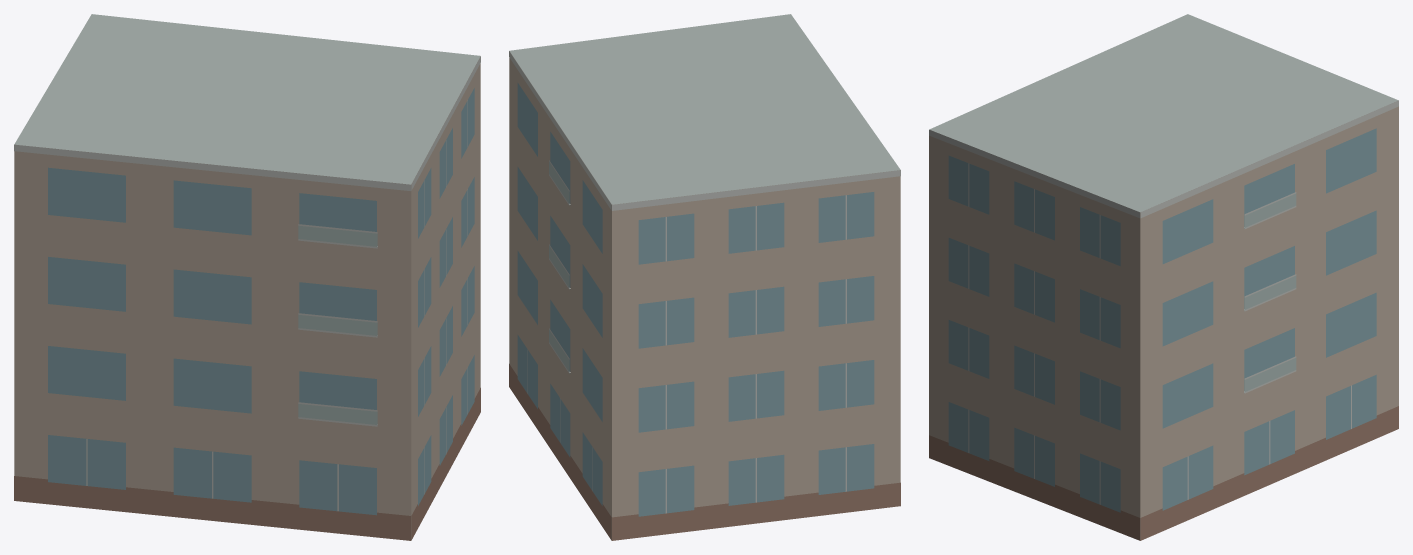
The model's file is survey-upis-32854422.glb.
3 views of the same model, side by side, from view 1: azimuth 30°, elevation 25°; view 2: azimuth 150°, elevation 25°; view 3: azimuth 270°, elevation 25° (orthographic). The views are drawn at different scales.
Parts seen in each view (by area): view 1: survey-upis-32854422.tmp; view 2: survey-upis-32854422.tmp; view 3: survey-upis-32854422.tmp.
Boxes of the visible parts, x1=… form: survey-upis-32854422.tmp: x1=14, y1=14, x2=480, y2=540; survey-upis-32854422.tmp: x1=509, y1=14, x2=900, y2=540; survey-upis-32854422.tmp: x1=929, y1=14, x2=1398, y2=540.
Size of the model in its own units: 17.1 by 13.2 by 17.11.
